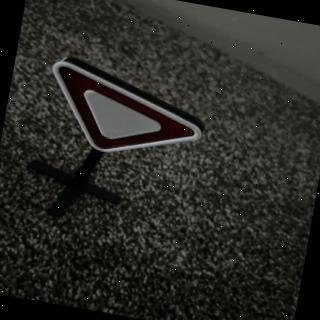sign_yield: (39, 56, 214, 173)
